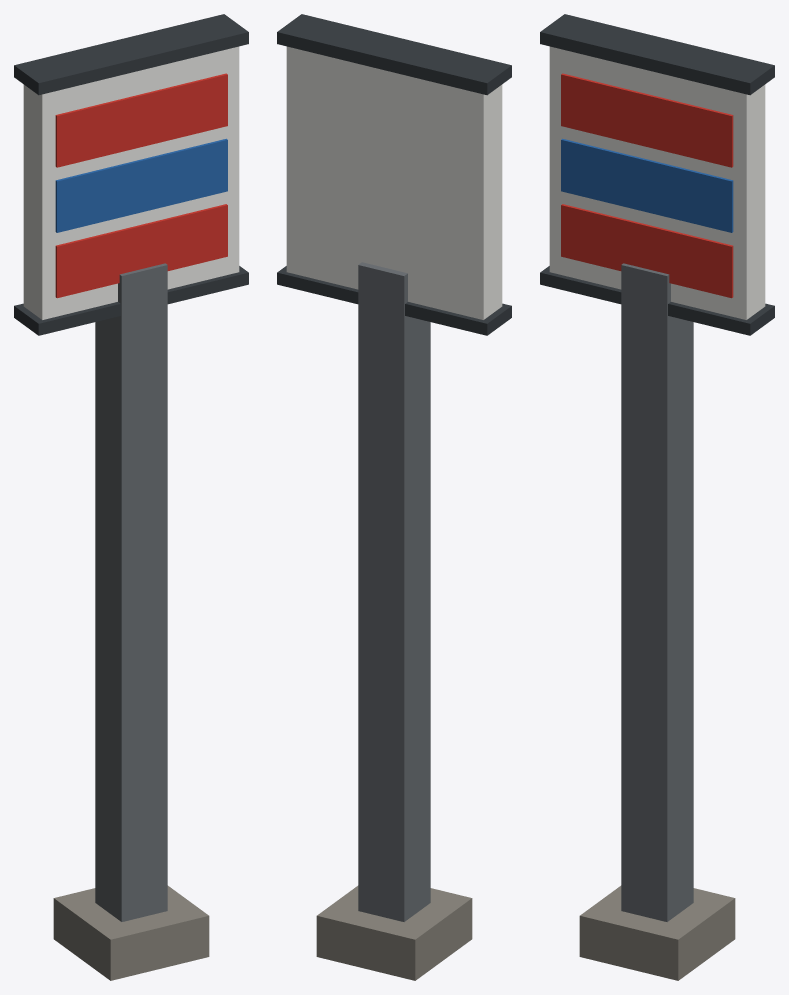
Rendered from pylon.glb.
The picture shows the model from 3 angles, left to right: view 1: azimuth 30°, elevation 25°; view 2: azimuth 150°, elevation 25°; view 3: azimuth 330°, elevation 25°; orthographic projection.
Parts seen in each view (by area): view 1: pylon_steel, pylon_white, pylon_red, pylon_steelDark, pylon_concreteDark, pylon_blue; view 2: pylon_white, pylon_steel, pylon_steelDark, pylon_concreteDark; view 3: pylon_steel, pylon_white, pylon_red, pylon_steelDark, pylon_concreteDark, pylon_blue.
Part boxes in pixels (<box>): pylon_steel: <box>95,263,167,921</box>; pylon_white: <box>23,46,239,319</box>; pylon_red: <box>55,73,227,298</box>; pylon_steelDark: <box>14,14,248,335</box>; pylon_concreteDark: <box>53,885,209,980</box>; pylon_blue: <box>55,138,227,232</box>; pylon_white: <box>286,46,502,319</box>; pylon_steel: <box>358,262,430,921</box>; pylon_steelDark: <box>277,14,511,335</box>; pylon_concreteDark: <box>316,885,472,980</box>; pylon_steel: <box>621,263,693,921</box>; pylon_white: <box>549,46,765,319</box>; pylon_red: <box>561,73,733,298</box>; pylon_steelDark: <box>540,14,774,335</box>; pylon_concreteDark: <box>579,885,735,980</box>; pylon_blue: <box>561,138,733,232</box>.
Size of the model in its own units: 6.4 by 26.17 by 3.
